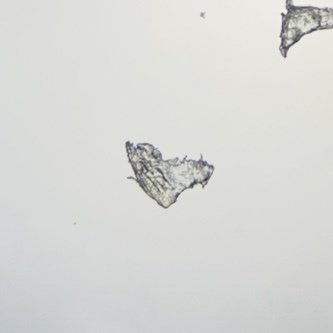microplastic: (125, 140, 214, 207), (279, 1, 333, 58)
